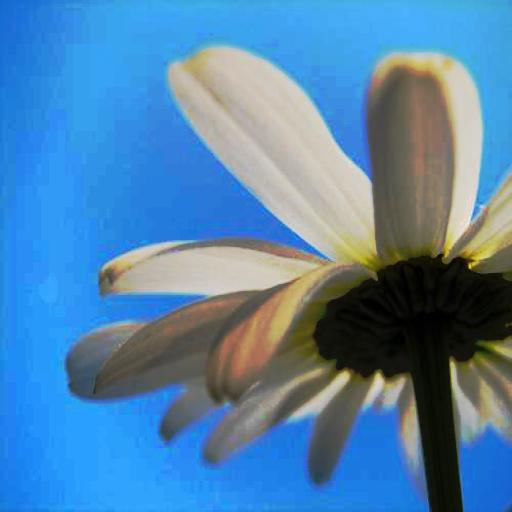daisy: (80, 46, 512, 512)
